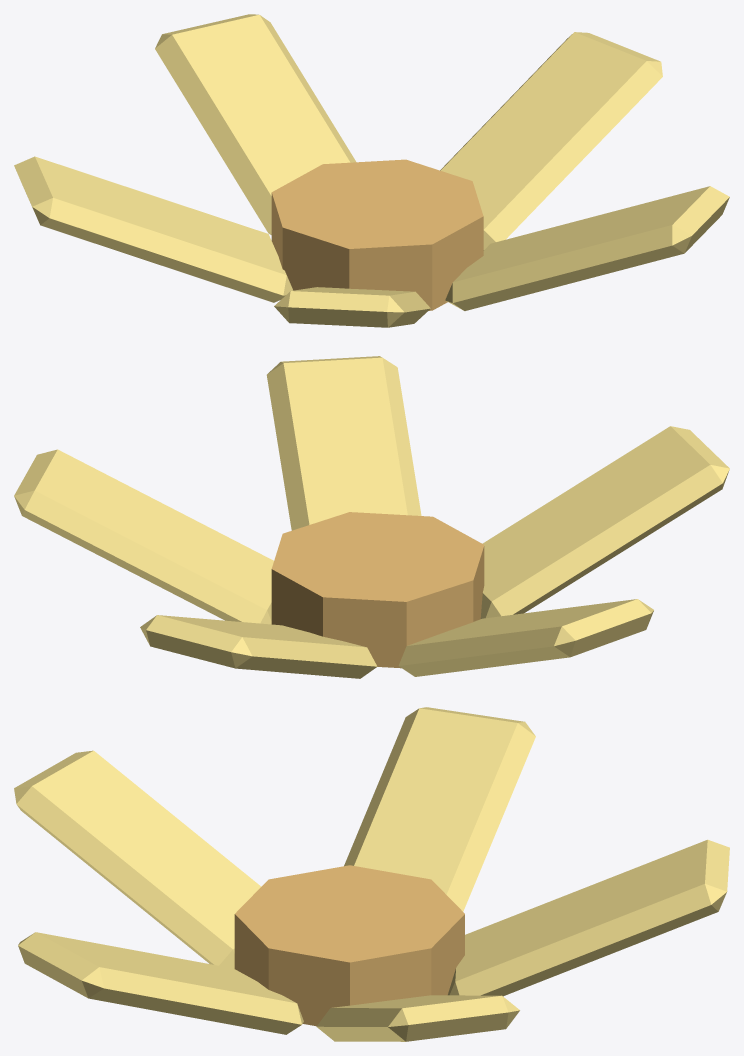
File: golem_flower_yellow_01.glb
3 renders of one model, top to bottom at view 1: azimuth 30°, elevation 25°; view 2: azimuth 150°, elevation 25°; view 3: azimuth 270°, elevation 25°, orthographic. The views are drawn at different scales.
Visible parts, largest first — view 1: golem_flower_yellow; view 2: golem_flower_yellow; view 3: golem_flower_yellow.
Part boxes in pixels (left/top/right/bottom): golem_flower_yellow: left=14, top=14, right=729, bottom=327; golem_flower_yellow: left=14, top=356, right=729, bottom=678; golem_flower_yellow: left=14, top=707, right=729, bottom=1041.
Size of the model in its own units: 0.49 by 0.0925 by 0.4663.
